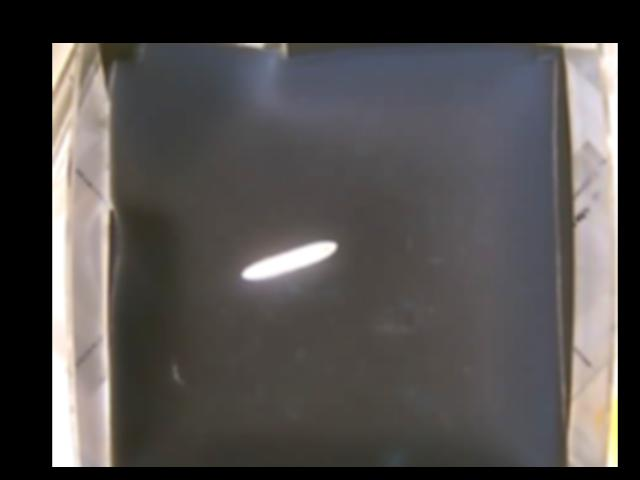Pebble: (238, 240, 340, 281)
